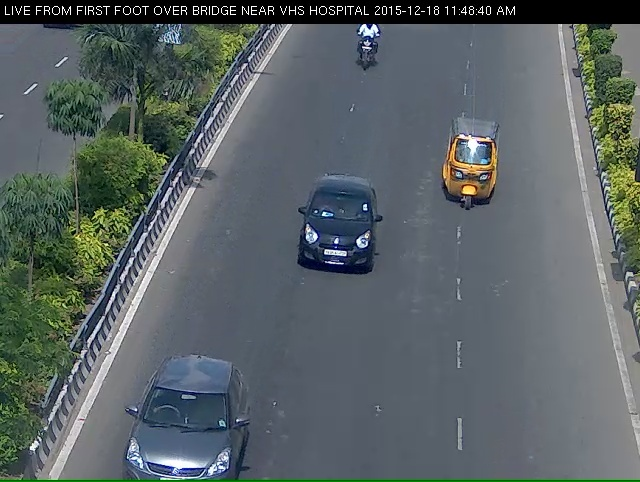Auto: (435, 120, 505, 228)
Car: (109, 385, 244, 478), (292, 185, 377, 302)
Person: (348, 26, 378, 80)
